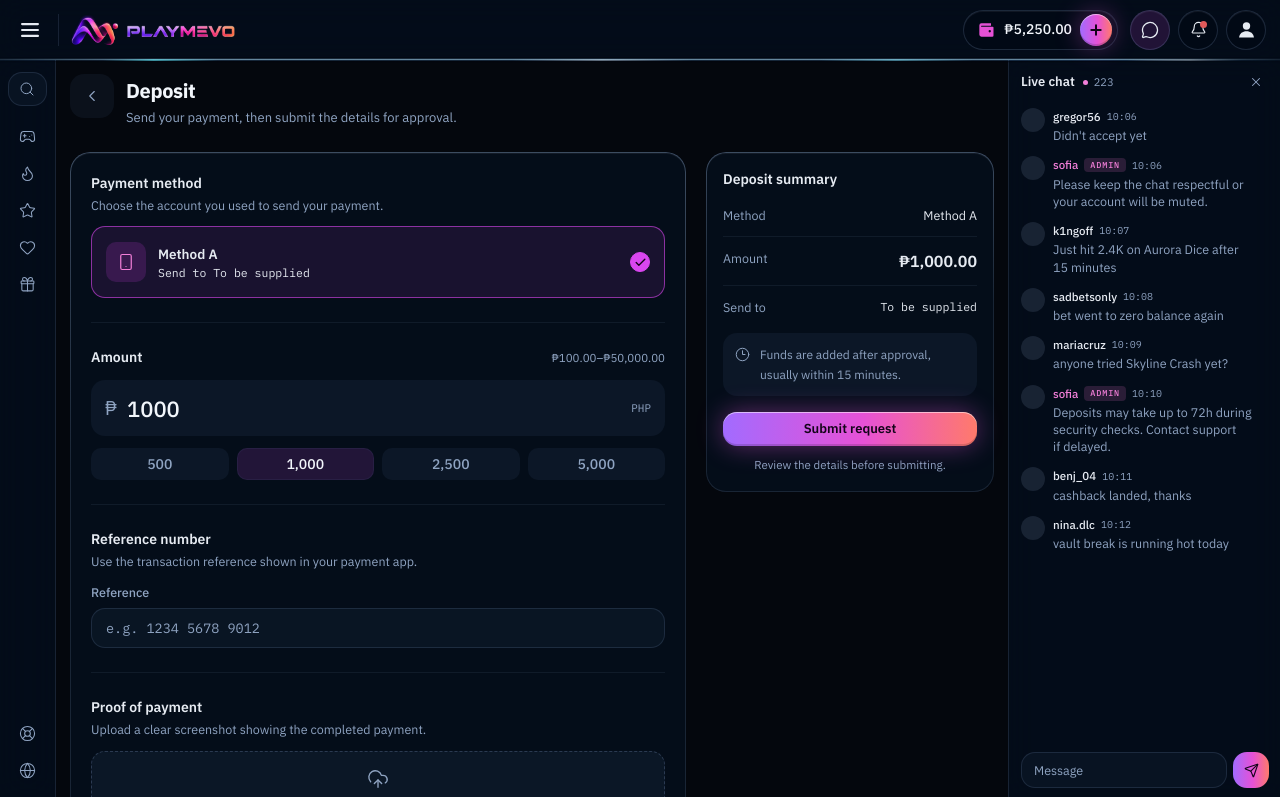
it: submitting a deposit request › keeps the selected method and amount visible in the deposit summary
Expected: the text "Method A" below "Deposit summary" is shown, [923,206,977,222]
Expected: the text "₱1,000.00" is shown, [899,249,977,273]
Click the button "2,500" at (451, 464), box [382,448,520,480]
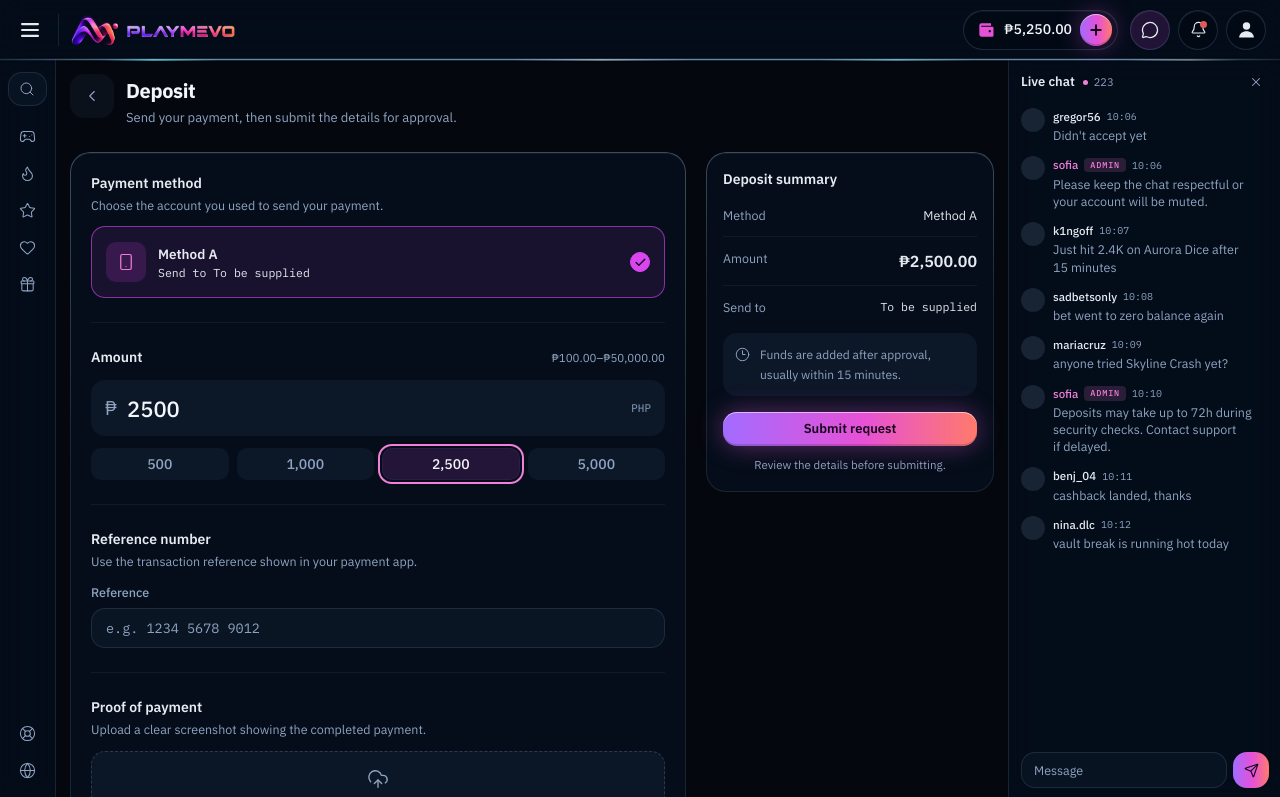
Expected: the text "₱2,500.00" is shown, [899,249,977,273]
